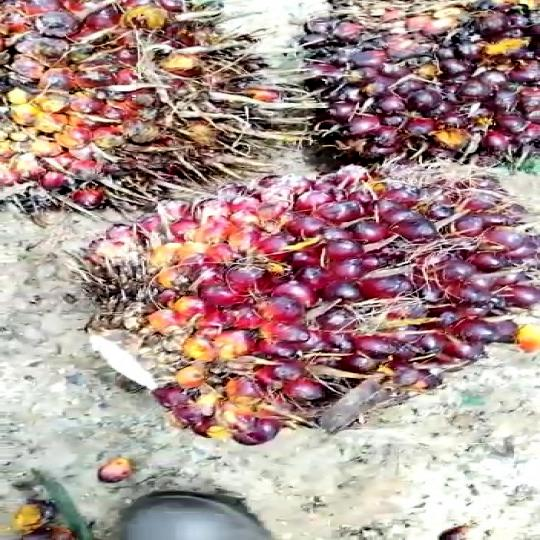masak: (74, 157, 540, 450), (0, 0, 292, 218), (287, 0, 538, 194)
